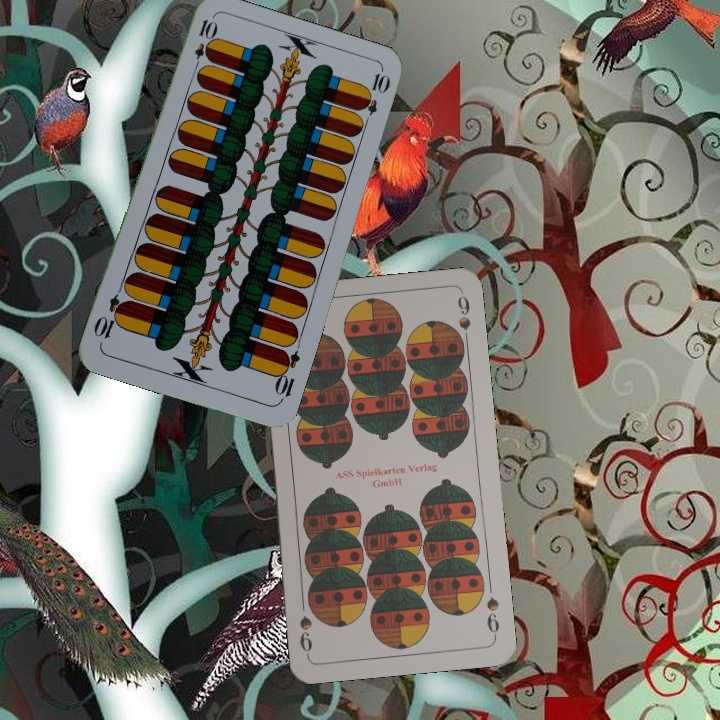E10: (270, 346, 303, 405), (190, 15, 217, 74)
S9: (482, 593, 502, 640)
